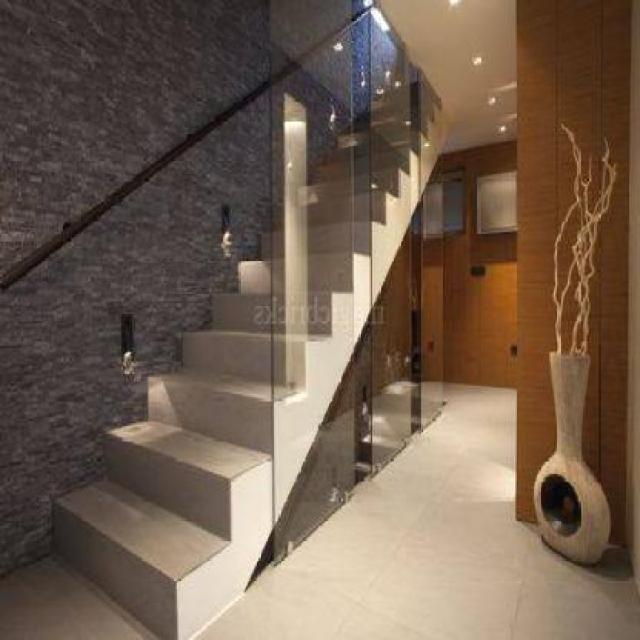stair: (28, 21, 464, 638)
